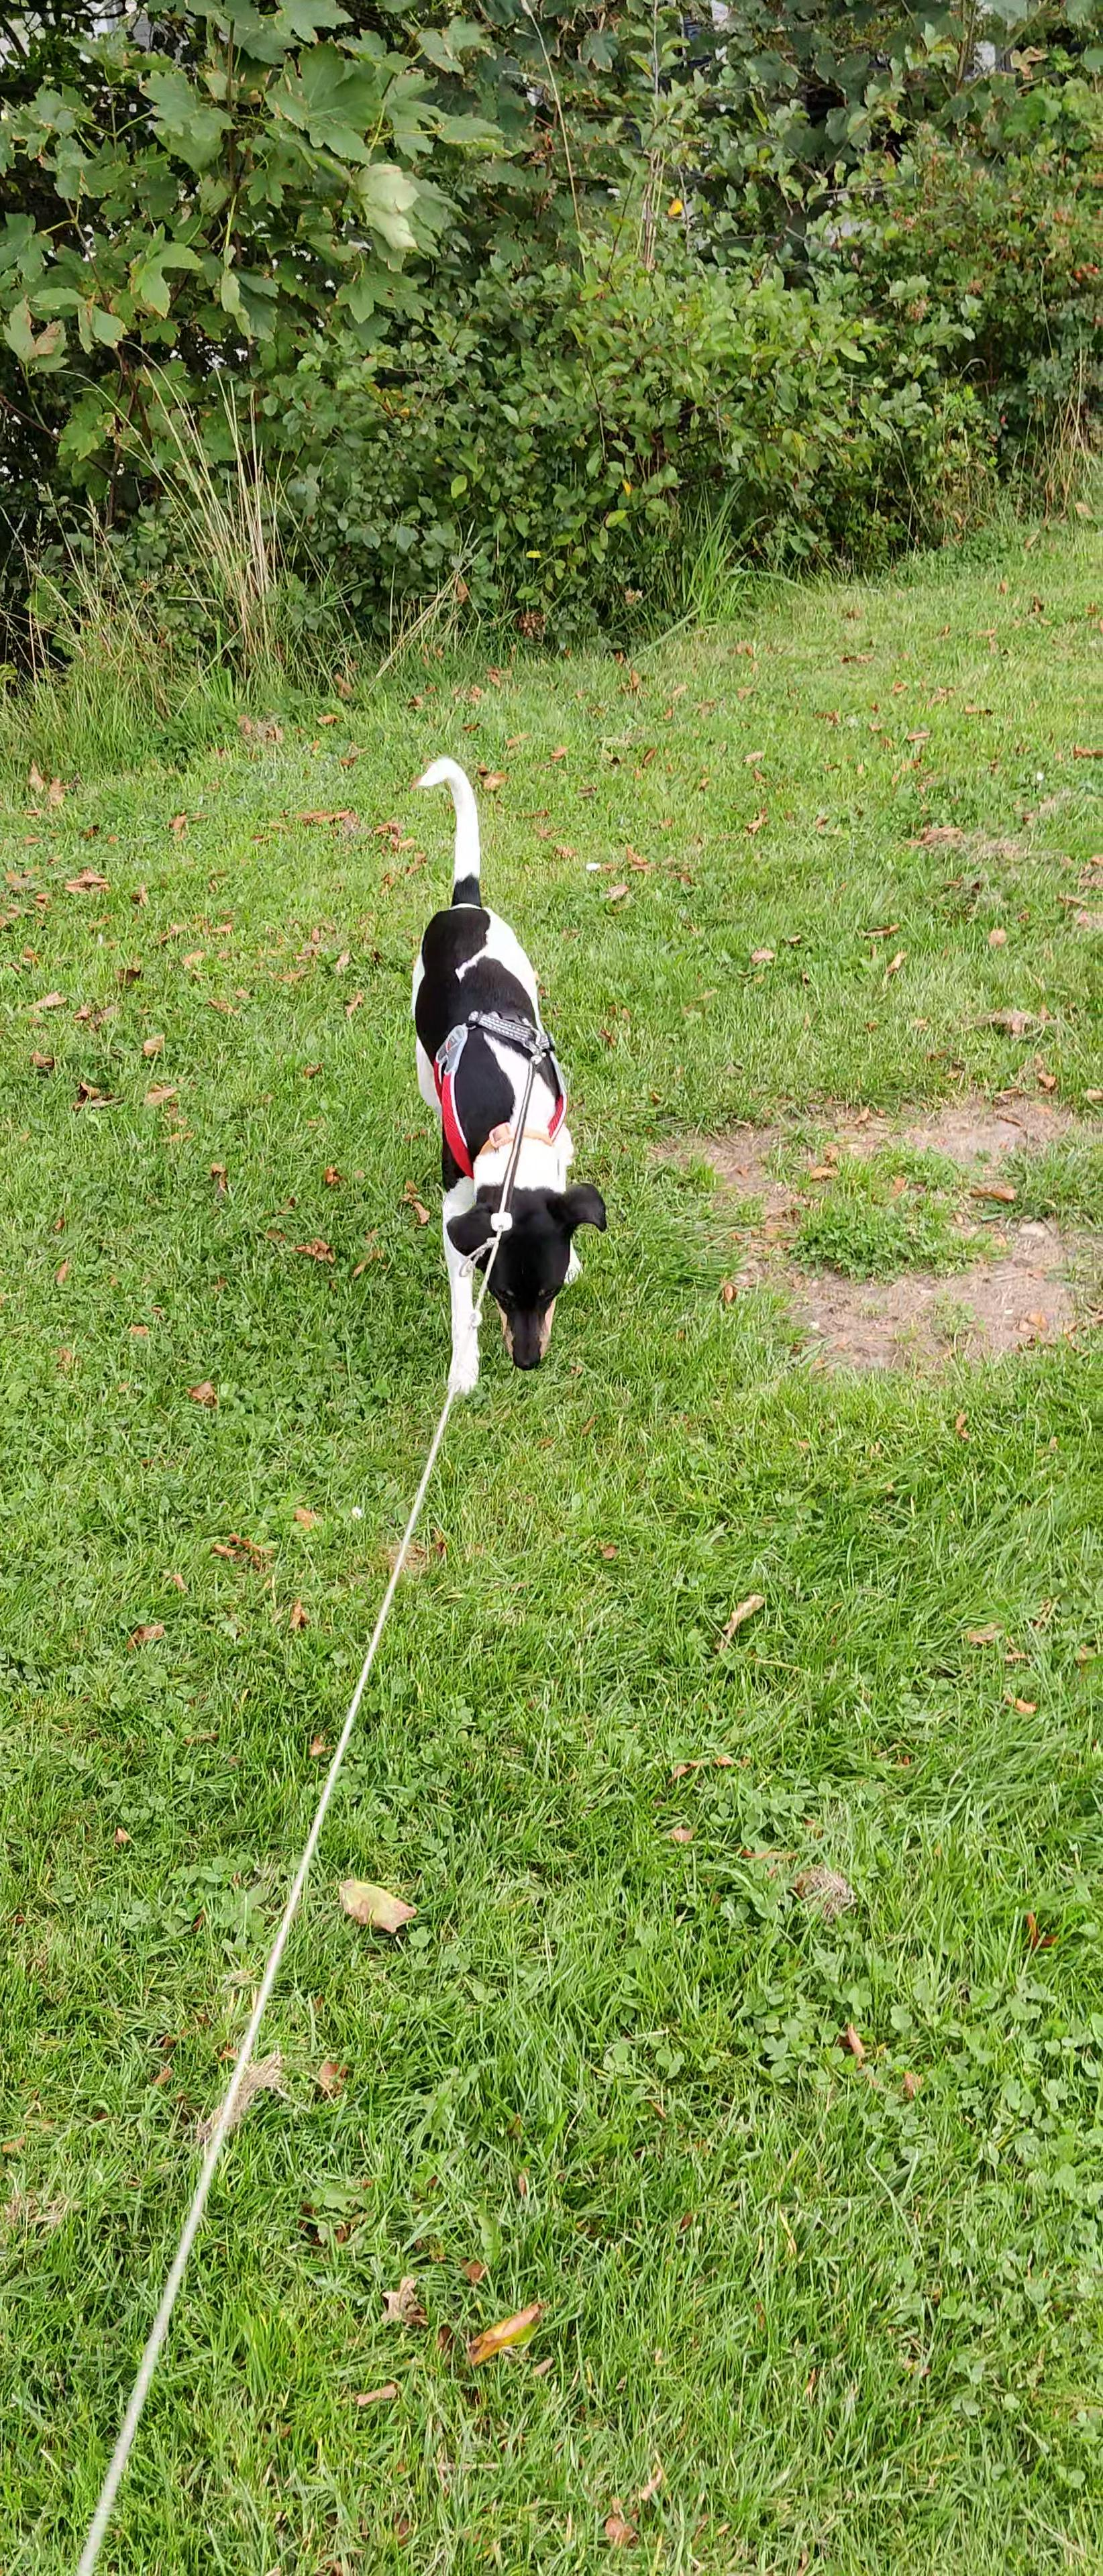Dog: (388, 749, 616, 1401)
